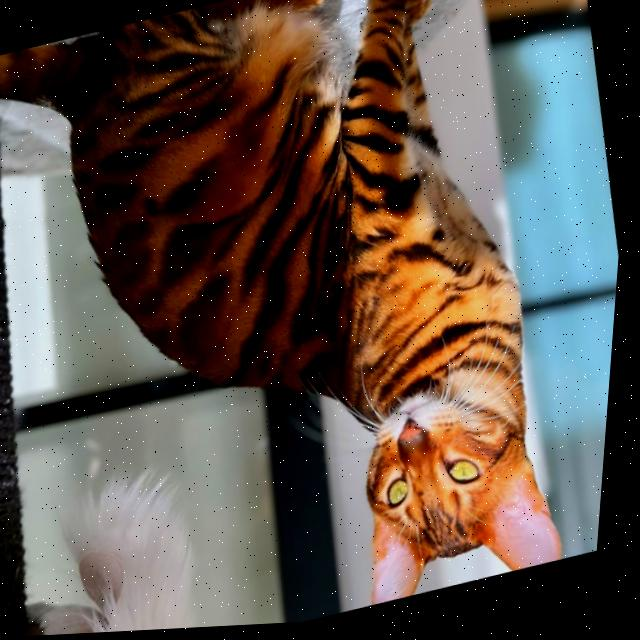Toyger: (0, 0, 611, 640)
